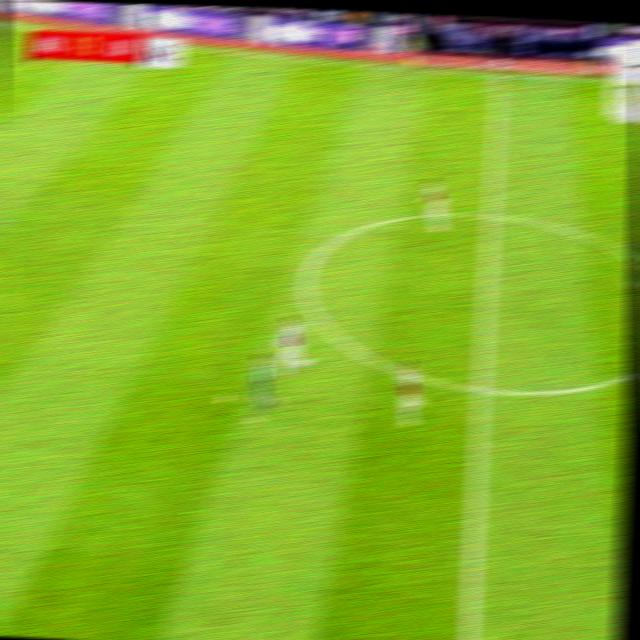halfcircle_bottom: (463, 368, 500, 412)
halfcircle_top: (474, 193, 508, 238)
midline_top_intersection: (479, 63, 519, 93)
